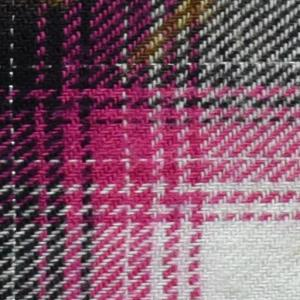Oil Stain: (117, 1, 226, 72), (41, 1, 82, 20)
